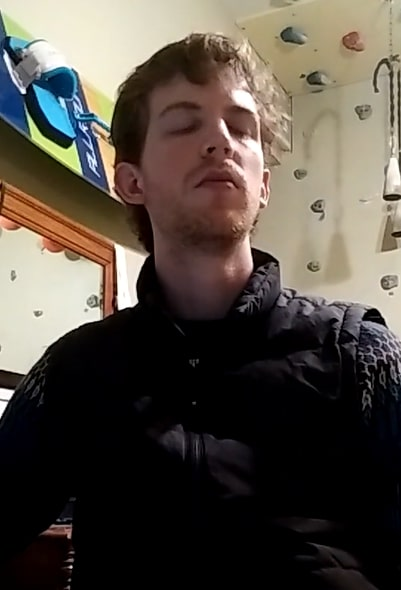Sleeping: (154, 98, 259, 146)
